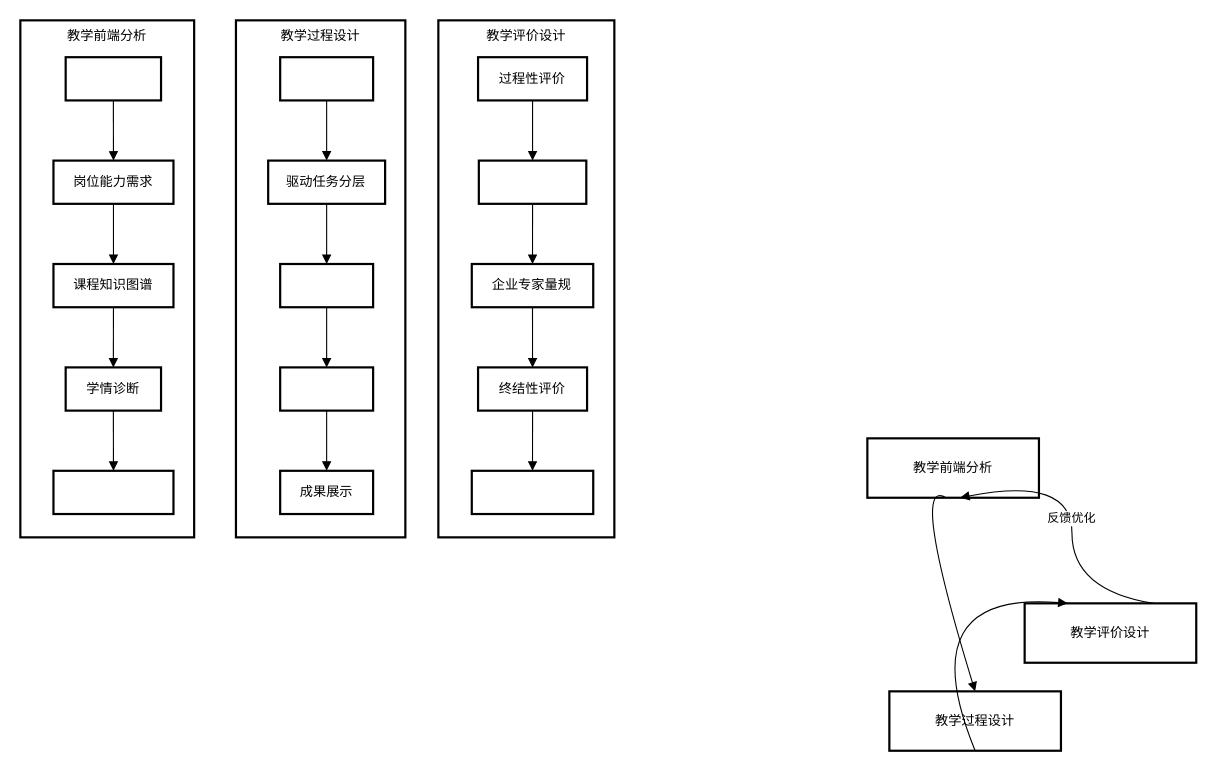
Some shapes in this 1216 by 770 pixel diagram are drawn without their labels. Each missing label, with the centre of its shape:
AI行为分析: (x=532, y=181)
动态优化建议: (x=532, y=492)
协作探究: (x=326, y=388)
教学环境适配: (x=113, y=492)
教学目标: (x=113, y=78)
案例导入: (x=326, y=78)
资源整合: (x=326, y=285)
